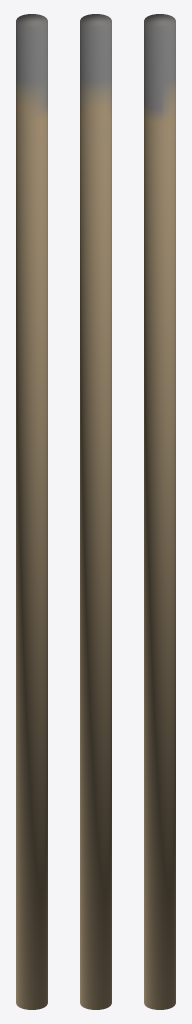
Rendered from stick.glb.
3 views of the same model, side by side, from view 1: azimuth 90°, elevation 25°; view 2: azimuth 150°, elevation 25°; view 3: azimuth 270°, elevation 25° (orthographic).
Visible parts, largest first — view 1: CTI Incense Burner 03.Shape.001; view 2: CTI Incense Burner 03.Shape.001; view 3: CTI Incense Burner 03.Shape.001.
Boxes of the visible parts, x1,y1,x2,y2 form: CTI Incense Burner 03.Shape.001: [16, 14, 47, 1009]; CTI Incense Burner 03.Shape.001: [80, 14, 111, 1009]; CTI Incense Burner 03.Shape.001: [144, 14, 175, 1009].
Size of the model in its own units: 0.00552 by 0.1911 by 0.0056.
Materials: 1 (1 with a texture image).
